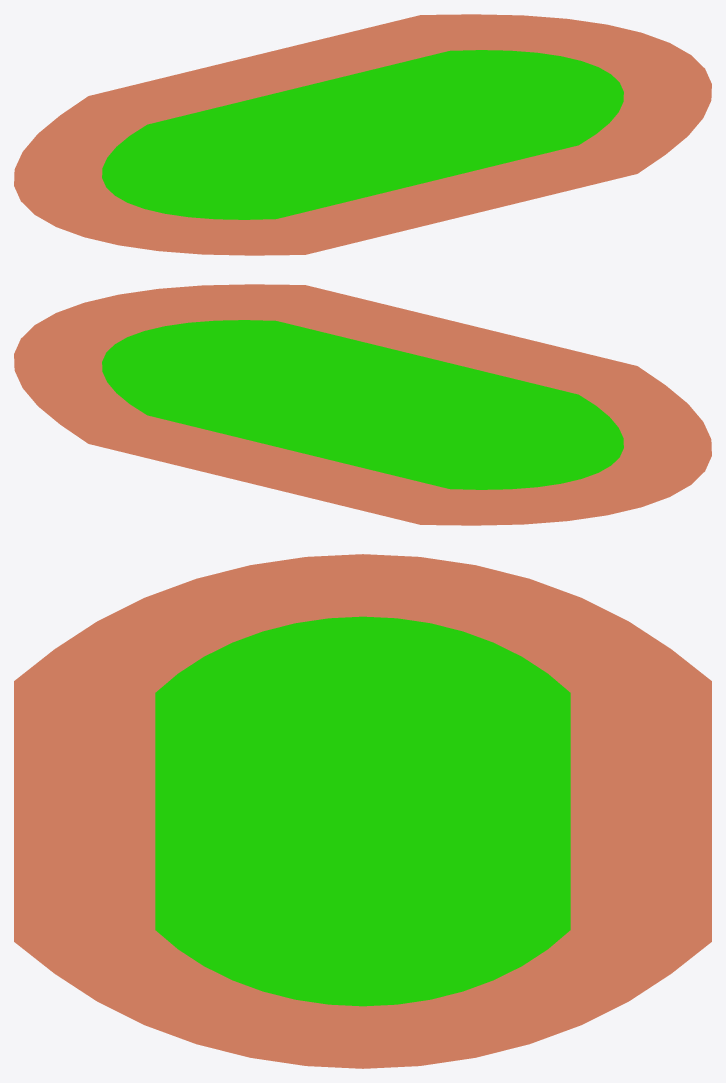
The model's file is パドック3.fbx.
3 views of the same model, one above another, from view 1: azimuth 30°, elevation 25°; view 2: azimuth 150°, elevation 25°; view 3: azimuth 270°, elevation 25° (orthographic). The views are drawn at different scales.
Visible parts, largest first — view 1: トーラス; view 2: トーラス; view 3: トーラス.
Boxes of the visible parts, x1,y1,x2,y2 form: トーラス: (14, 14, 711, 255); トーラス: (14, 284, 711, 525); トーラス: (14, 554, 711, 1068).
Size of the model in its own units: 2443 by 0.000228 by 1400.
